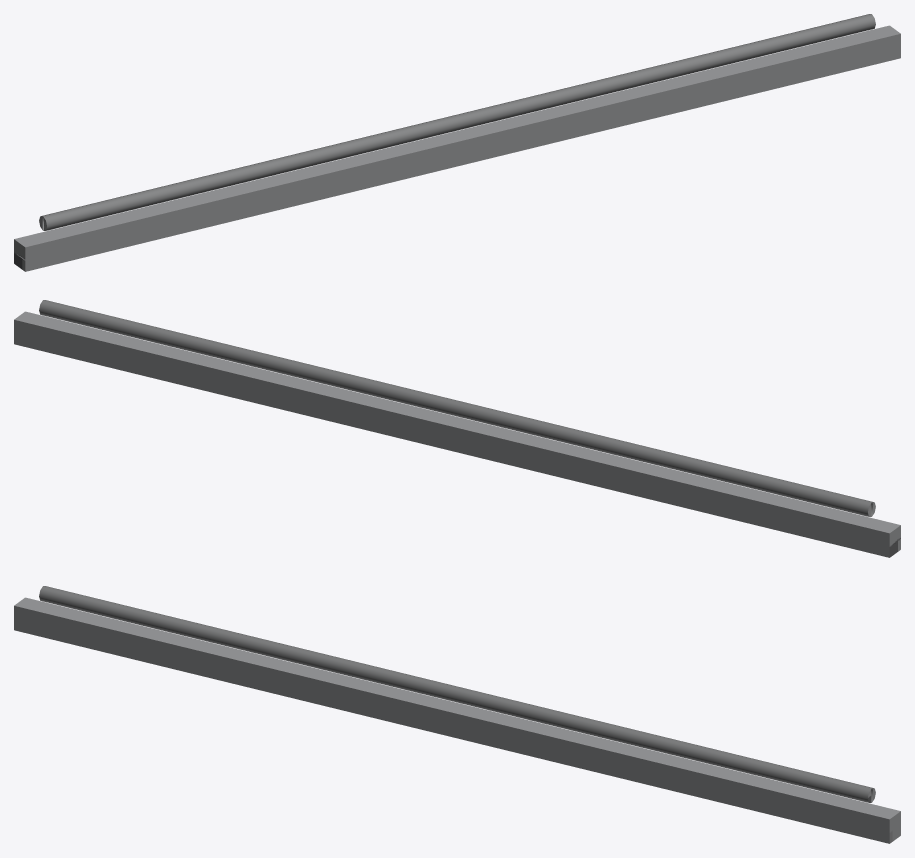
3 views of the same model, one above another, from view 1: azimuth 30°, elevation 25°; view 2: azimuth 150°, elevation 25°; view 3: azimuth 330°, elevation 25° (orthographic).
Size of the model in its own units: 1.03 by 0.0515 by 0.023.
